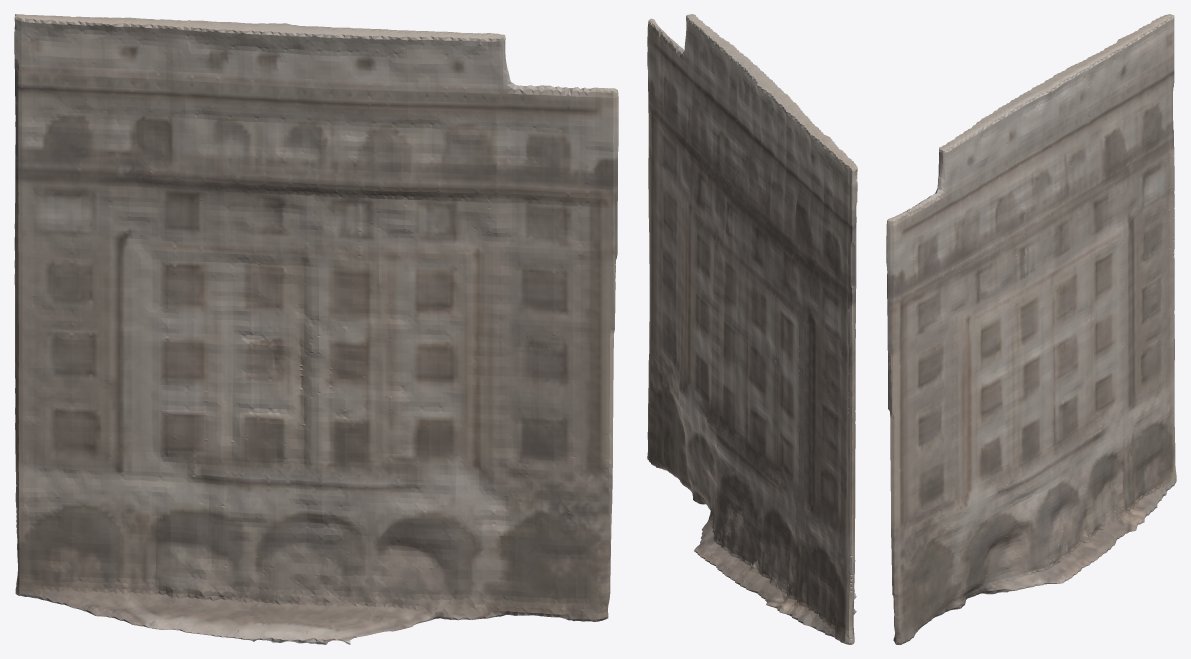
File: zaragoza.glb
3 renders of one model, left to right at view 1: azimuth 30°, elevation 25°; view 2: azimuth 150°, elevation 25°; view 3: azimuth 270°, elevation 25°, orthographic. The views are drawn at different scales.
Visible parts, largest first — view 1: world; view 2: world; view 3: world.
Boxes of the visible parts, x1,y1,x2,y2 form: world: [14, 14, 618, 644]; world: [647, 14, 857, 644]; world: [886, 14, 1176, 644].
Bounding box in the file's own units: 1.53 × 2 × 1.12.
